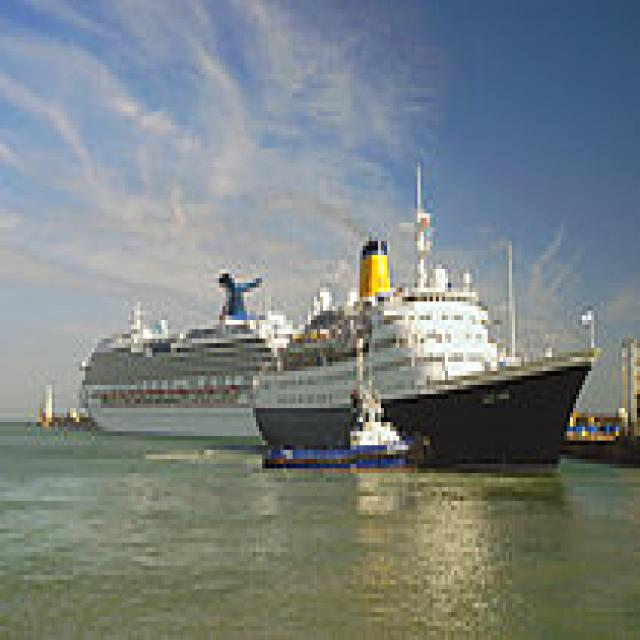Cruise: (244, 158, 597, 464), (73, 255, 314, 441)
